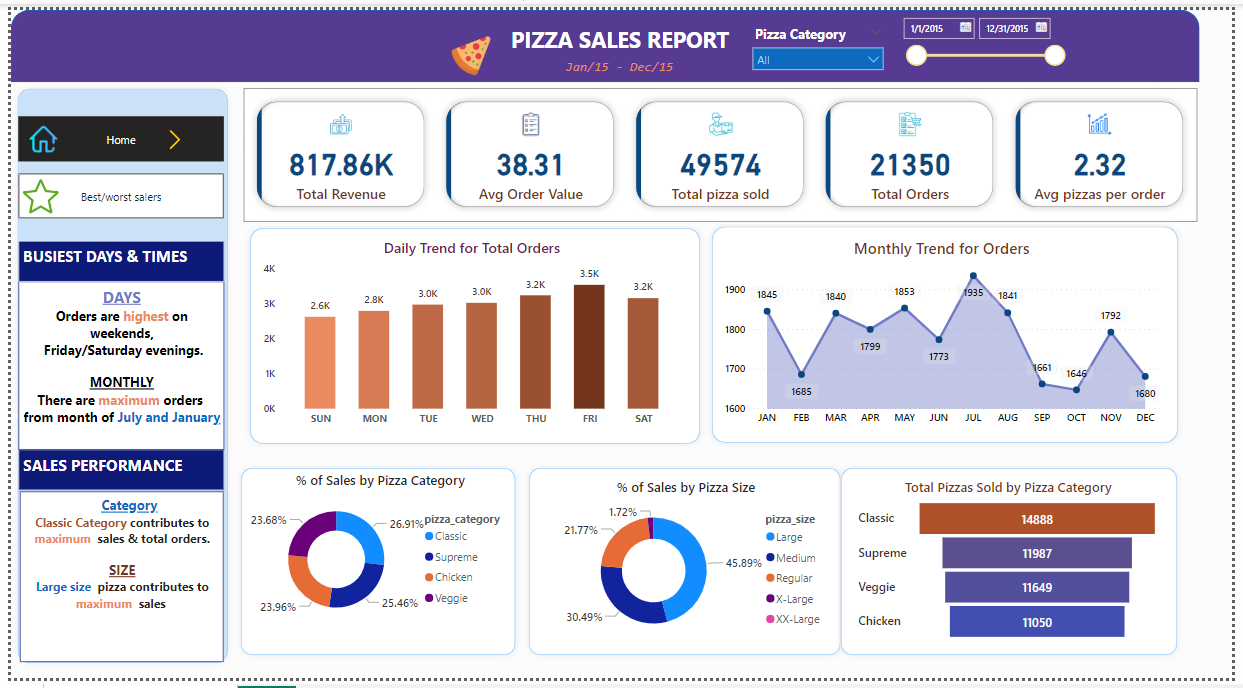

What the dashboard file says about the page in this screenshot:
{"tool":"powerbi","page":{"name":"Home","canvas":[1500,820],"ordinal":0},"visuals":[{"type":"cardVisual","fields":{"Data":["pizza_sales.Total Revenue","pizza_sales.Avg Order Value","pizza_sales.Total pizza sold","pizza_sales.Total Orders","pizza_sales.Avg pizzas per order"]},"box":[285.6,96.2,1172,163],"z":0},{"type":"shape","box":[0,0,1460,88.9],"z":1000},{"type":"textbox","box":[596.1,12.4,305.8,51.2],"z":2000},{"type":"textbox","box":[676.8,55.9,177,45],"z":3000},{"type":"image","box":[521.6,26.4,86.9,60.5],"z":4000},{"type":"shape","box":[285.1,258.9,568.9,281.2],"z":5000},{"type":"columnChart","title":"Daily Trend for Total Orders","fields":{"Y":["pizza_sales.Total Orders"],"Category":["pizza_sales.order day"]},"box":[303.4,279.9,524.4,239.3],"z":6000},{"type":"shape","box":[274.6,554.5,353.1,245.9],"z":8000},{"type":"shape","box":[627.7,554.5,398.9,245.9],"z":9000},{"type":"shape","box":[1012.2,554.5,428.9,245.9],"z":10000},{"type":"donutChart","title":"% of Sales by Pizza Category","fields":{"Category":["pizza_sales.pizza_category"],"Y":["pizza_sales.Total Revenue"]},"box":[285.1,565,336.1,196.2],"z":11000},{"type":"donutChart","title":"% of Sales by Pizza Size","fields":{"Category":["pizza_sales.pizza_size"],"Y":["pizza_sales.Total Revenue"]},"box":[647.3,574.1,364.9,205.3],"z":12000},{"type":"funnel","title":"Total Pizzas Sold by Pizza Category","fields":{"Category":["pizza_sales.pizza_category"],"Y":["pizza_sales.Total pizza sold"]},"box":[1035.7,575.4,379.3,204],"z":13000},{"type":"shape","box":[0,88.9,274.6,721.9],"z":14000},{"type":"textbox","box":[9.2,539.9,252.4,49.8],"z":15000},{"type":"textbox","box":[9.2,333.5,252.4,206.4],"z":16000},{"type":"textbox","box":[9.2,283.8,252.4,49.8],"z":17000},{"type":"textbox","box":[40,845,234,206],"z":18000},{"type":"textbox","box":[11.8,591.1,249.8,209.2],"z":19000},{"type":"slicer","fields":{"Values":["pizza_sales.pizza_category"]},"box":[901.1,12.9,180.6,60.8],"z":20000},{"type":"slicer","fields":{"Values":["pizza_sales.order_date"]},"box":[1082.8,0,219.7,86.3],"z":21000},{"type":"pageNavigator","box":[9.2,130.8,252.4,55.3],"z":22000},{"type":"pageNavigator","box":[9.2,200.9,252.4,55.3],"z":23000},{"type":"image","box":[12.2,136.7,54.4,44.4],"z":24000},{"type":"image","box":[10,200,54.4,55.6],"z":25000},{"type":"image","box":[171.1,141.1,60,34.4],"z":26000},{"type":"shape","box":[853.1,258.4,588.1,281.6],"z":27000},{"type":"areaChart","title":" Monthly Trend for Orders","fields":{"Category":["pizza_sales.order Month"],"Y":["pizza_sales.Total Orders"]},"box":[871.4,280,543.4,238.5],"z":28000}]}

Visuals, with their boxes in screenshot pixels (x1, y1, x2, y2), scaled from the page's 1500x820 canvas onto the 1243x688 screenshot:
cardVisual - pizza_sales.Total Revenue x pizza_sales.Avg Order Value: 237, 81, 1208, 217
shape: 0, 0, 1210, 75
textbox: 494, 10, 747, 53
textbox: 561, 47, 708, 85
image: 432, 22, 504, 73
shape: 236, 217, 708, 453
"Daily Trend for Total Orders" columnChart: 251, 235, 686, 436
shape: 228, 465, 520, 672
shape: 520, 465, 851, 672
shape: 839, 465, 1194, 672
"% of Sales by Pizza Category" donutChart: 236, 474, 515, 639
"% of Sales by Pizza Size" donutChart: 536, 482, 839, 654
"Total Pizzas Sold by Pizza Category" funnel: 858, 483, 1173, 654
shape: 0, 75, 228, 680
textbox: 8, 453, 217, 495
textbox: 8, 280, 217, 453
textbox: 8, 238, 217, 280
textbox: 10, 496, 217, 671
slicer - pizza_sales.pizza_category: 747, 11, 896, 62
slicer - pizza_sales.order_date: 897, 0, 1079, 72
pageNavigator: 8, 110, 217, 156
pageNavigator: 8, 169, 217, 215
image: 10, 115, 55, 152
image: 8, 168, 53, 214
image: 142, 118, 192, 147
shape: 707, 217, 1194, 453
" Monthly Trend for Orders" areaChart: 722, 235, 1172, 435
